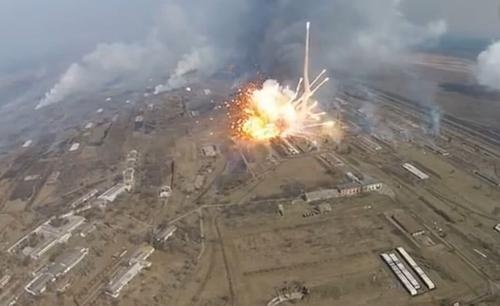fire: (225, 77, 330, 143)
